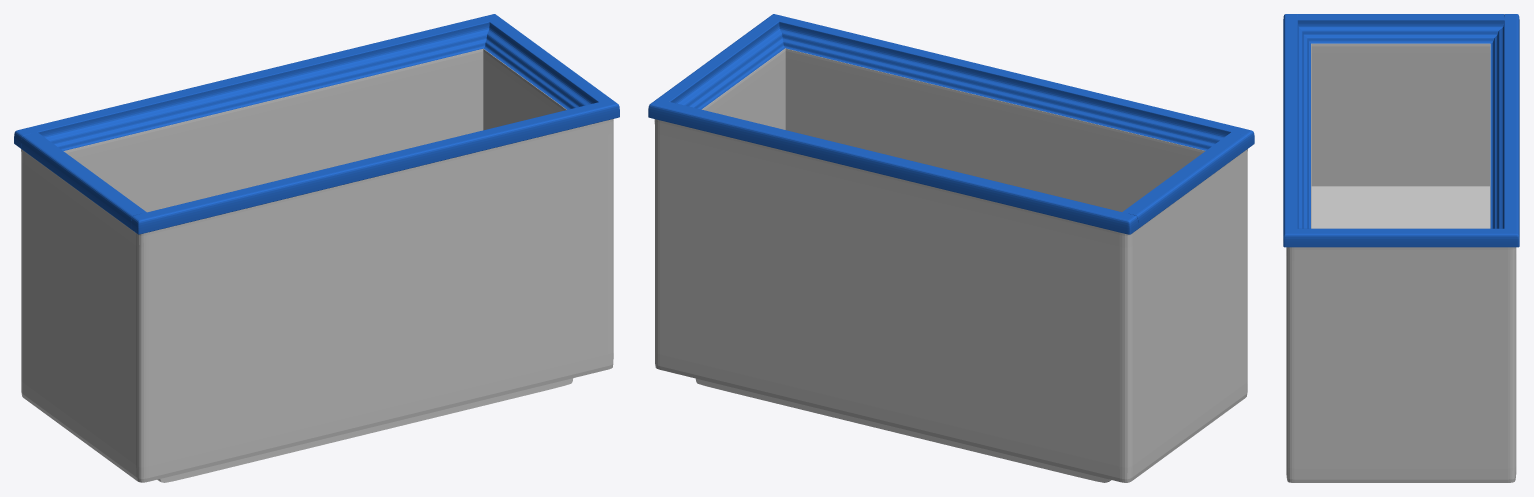
The model's file is SlideFreezer.fbx.
The picture shows the model from 3 angles, left to right: view 1: azimuth 30°, elevation 25°; view 2: azimuth 150°, elevation 25°; view 3: azimuth 270°, elevation 25°; orthographic projection. The views are drawn at different scales.
Parts seen in each view (by area): view 1: Cube; view 2: Cube; view 3: Cube.
Boxes of the visible parts, left/top/right/bottom form: Cube: left=14, top=14, right=619, bottom=482; Cube: left=648, top=14, right=1254, bottom=482; Cube: left=1283, top=14, right=1519, bottom=482.
Size of the model in its own units: 585 by 321 by 263.
